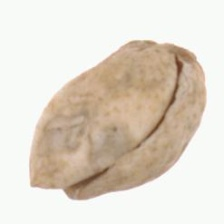L1: (128, 39, 197, 64), (27, 172, 81, 201)
L2: (29, 39, 207, 200)
